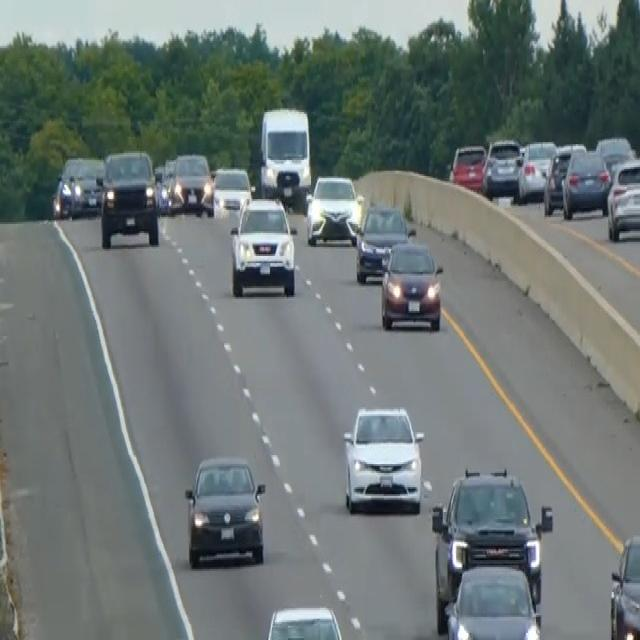car: (183, 453, 266, 567), (341, 402, 424, 514), (444, 562, 541, 638), (379, 238, 443, 331), (354, 199, 413, 283), (304, 172, 363, 245), (561, 148, 610, 218), (53, 153, 104, 219), (608, 532, 639, 638), (543, 142, 586, 215), (261, 603, 345, 638), (168, 151, 213, 215), (606, 156, 639, 242), (481, 135, 521, 201), (516, 139, 556, 201), (211, 163, 253, 217), (594, 133, 634, 178), (449, 142, 486, 190), (155, 155, 176, 213)
jeep: (430, 462, 553, 631), (227, 192, 298, 300), (98, 147, 160, 249)
minibus: (257, 105, 312, 206)
